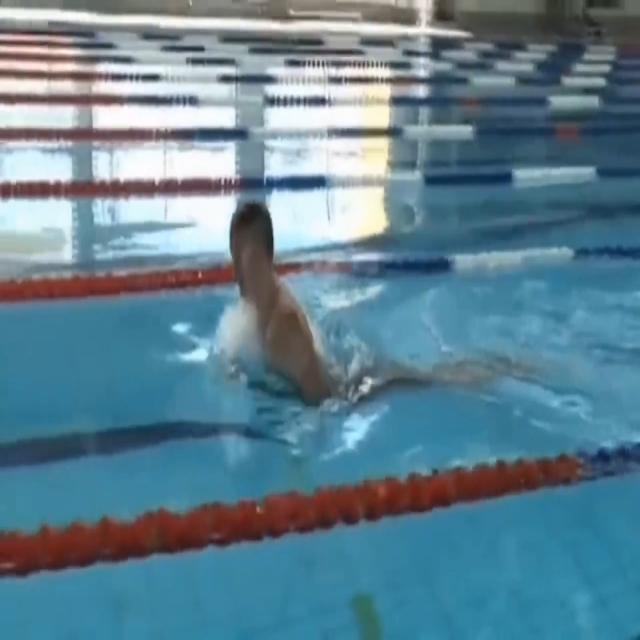Swimming: (222, 200, 376, 414)
